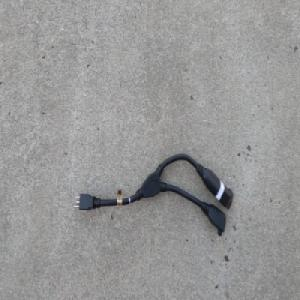Wire: (72, 152, 235, 238)
